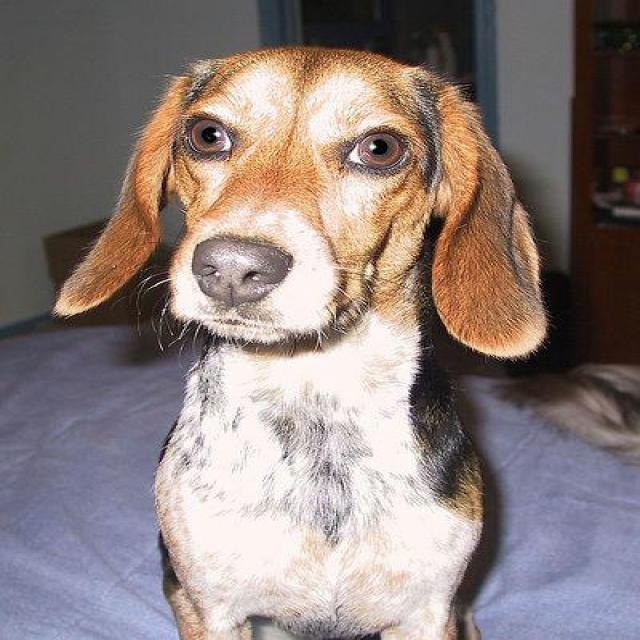beagle: (48, 35, 552, 638)
